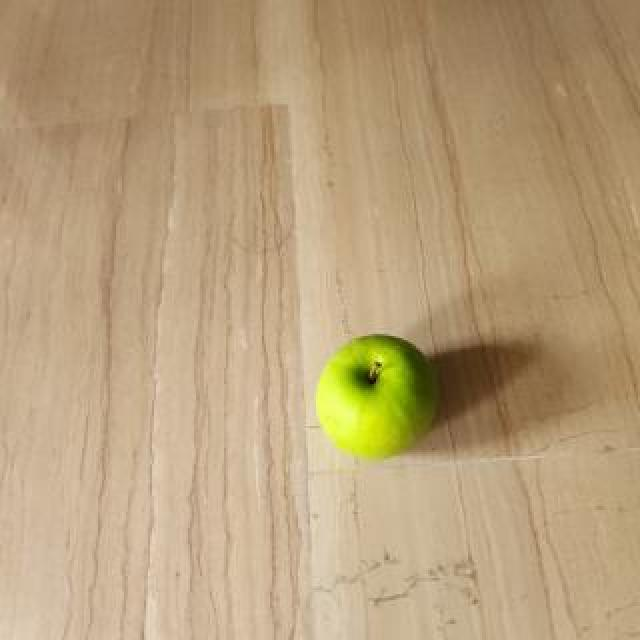Fresh Apple: (313, 333, 429, 462)
